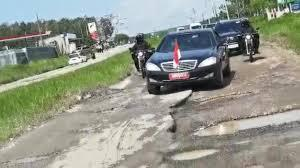Pothole: (137, 81, 300, 168), (63, 60, 129, 116), (244, 47, 300, 96)
